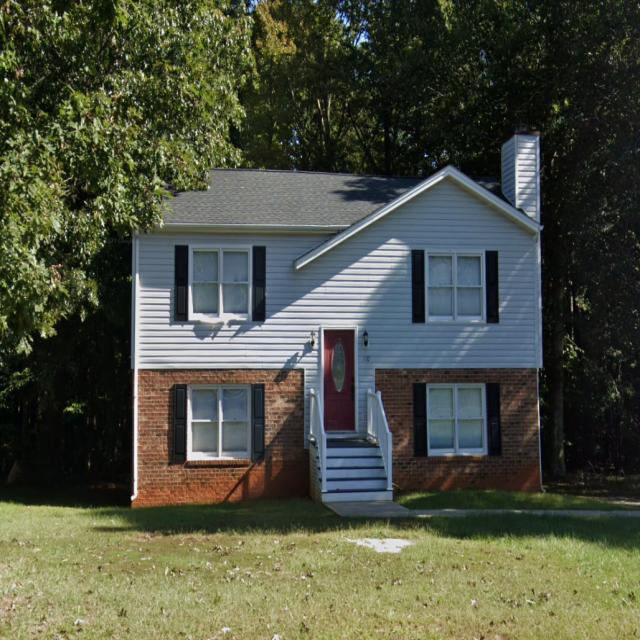House: (130, 123, 544, 509)
